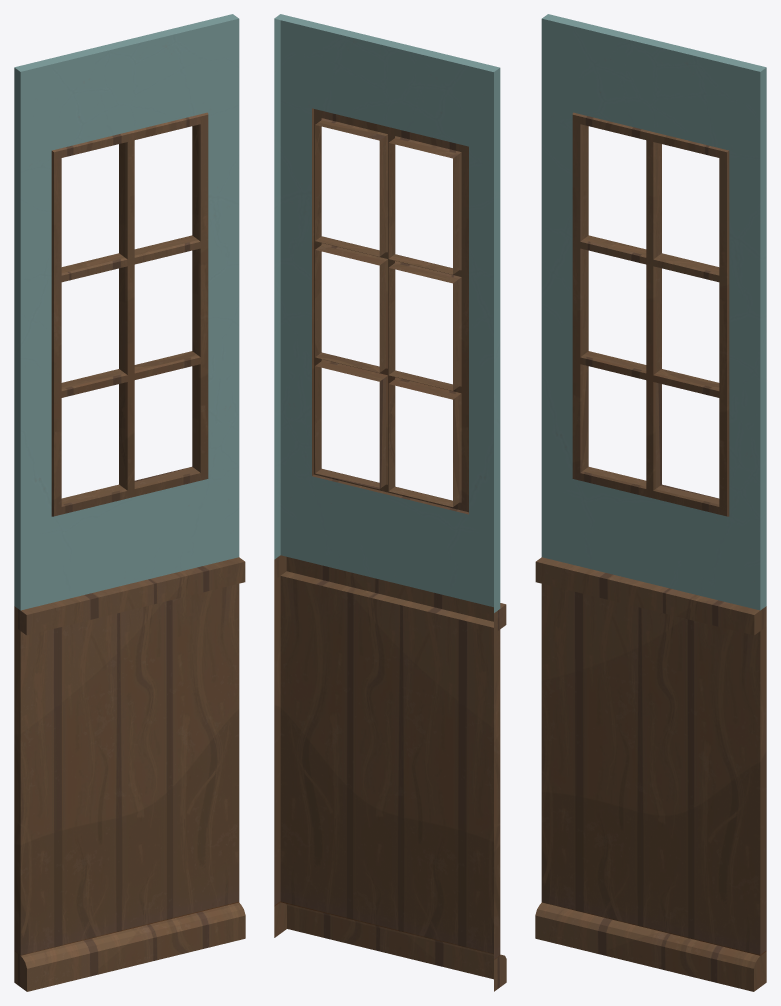
Rendered from Window - 4x1.fbx.
3 views of the same model, side by side, from view 1: azimuth 30°, elevation 25°; view 2: azimuth 150°, elevation 25°; view 3: azimuth 330°, elevation 25° (orthographic).
Parts seen in each view (by area): view 1: Simple Wall - Window 4x1; view 2: Simple Wall - Window 4x1; view 3: Simple Wall - Window 4x1.
Part boxes in pixels (left/top/right/bottom): Simple Wall - Window 4x1: left=14, top=14, right=245, bottom=991; Simple Wall - Window 4x1: left=274, top=14, right=506, bottom=991; Simple Wall - Window 4x1: left=535, top=14, right=766, bottom=991.
Size of the model in its own units: 39.37 by 157 by 4.02.
